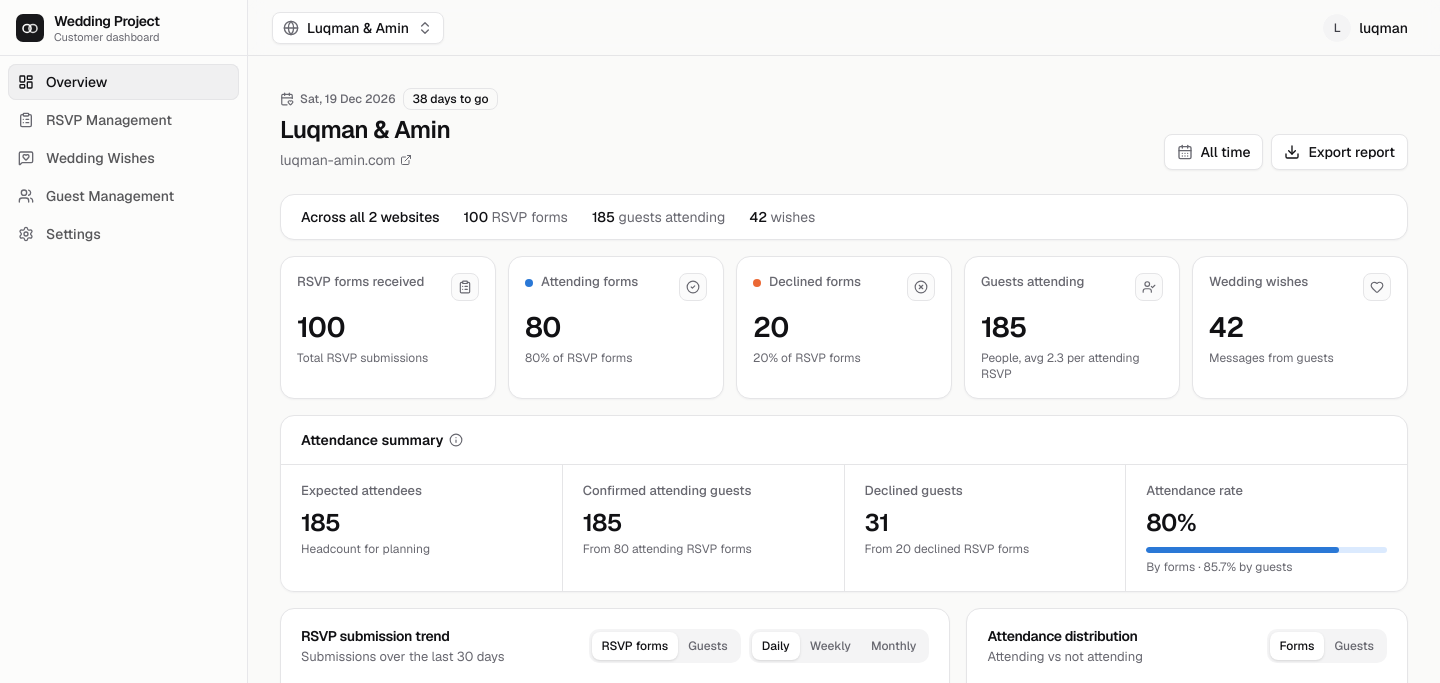
Website selector › lists every owned website and reloads data when switching
Expected: the text "100" below "RSVP forms received" is shown, [297,309,345,345]
Click the button with aria-label "select website". click: (358, 28)
box: [272,12,444,44]
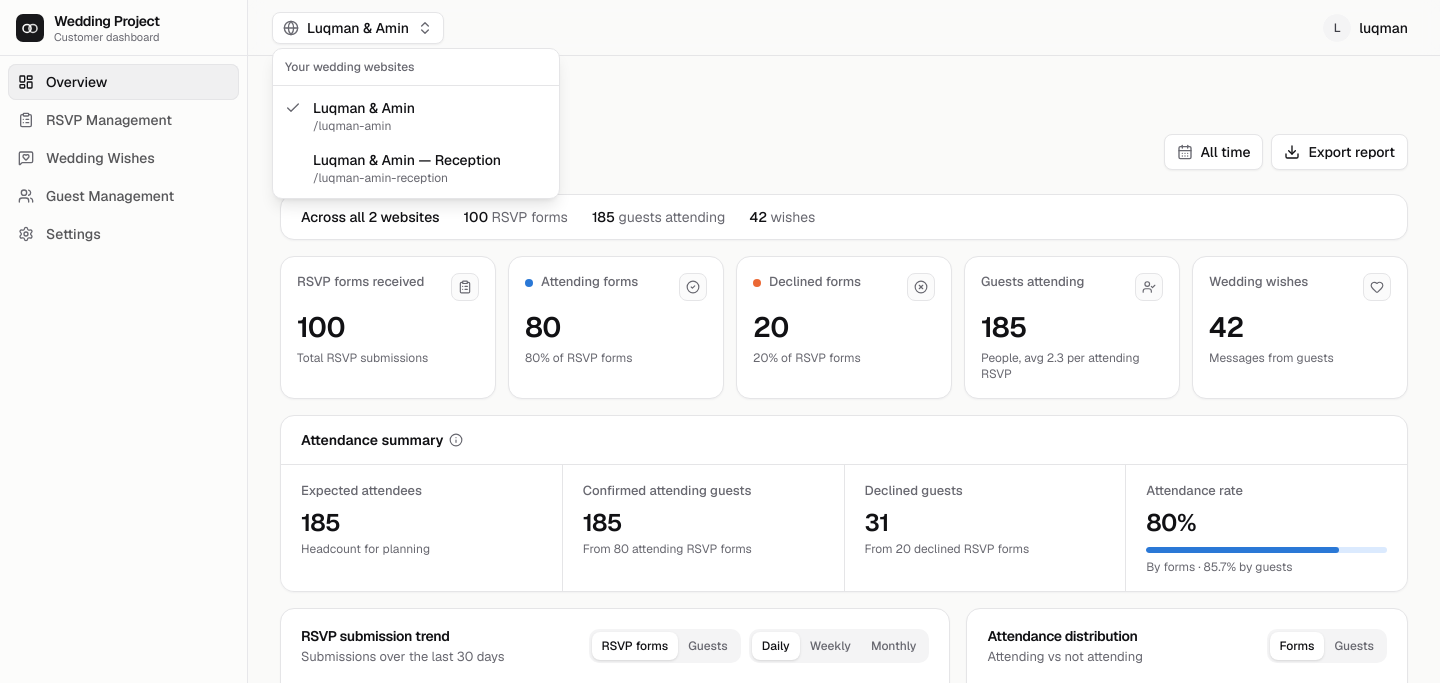
Click the menu item "Luqman & Amin — Reception /luqman-amin-reception". click: (407, 168)
box: [313,151,501,186]
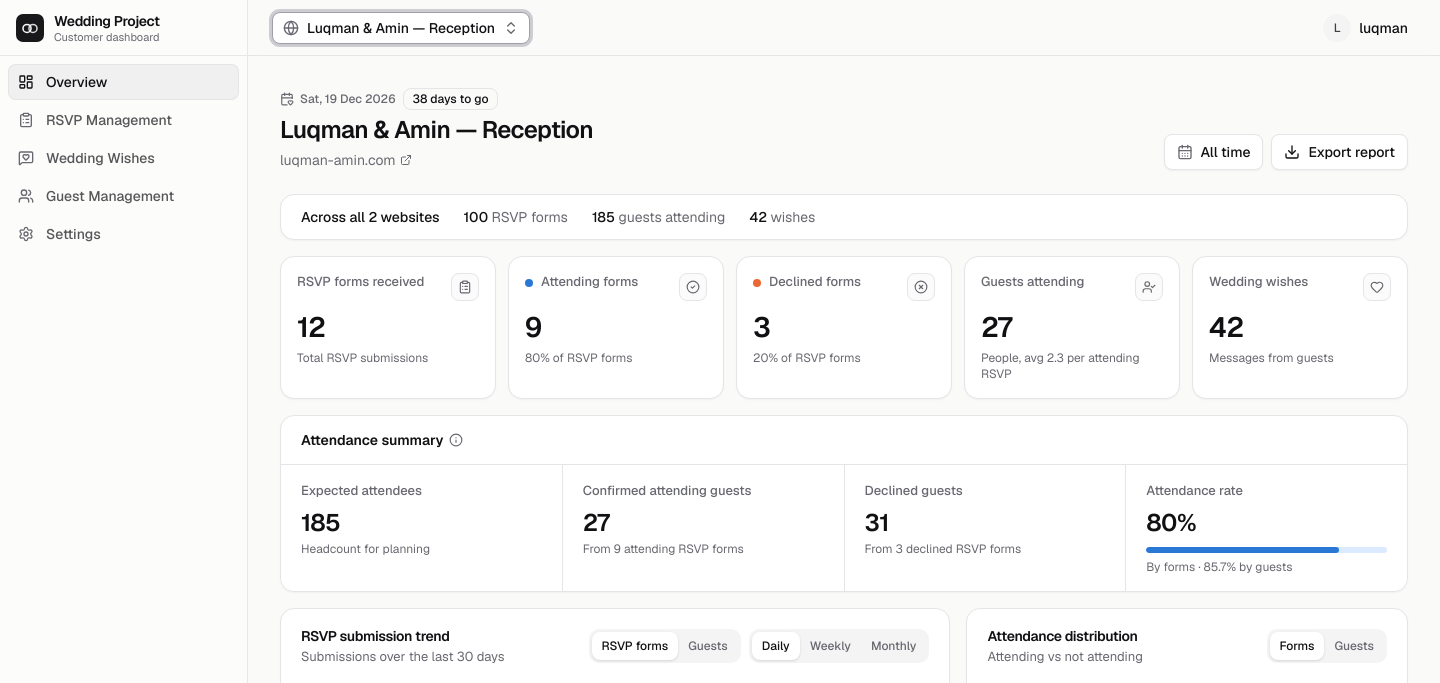
Result: the text "12" is shown at [297,309,325,345]
Result: the text "27" below "Declined forms" is shown at [981,309,1012,345]
